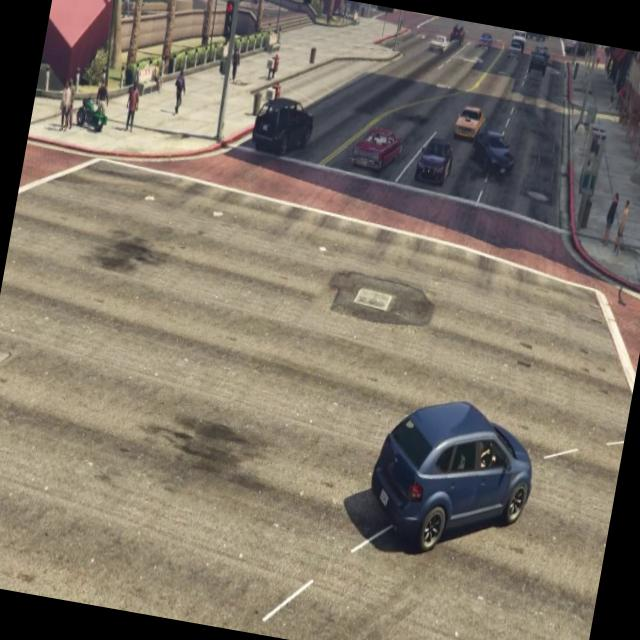Red-Signal: (216, 0, 238, 45), (370, 4, 396, 24), (296, 0, 314, 16)
